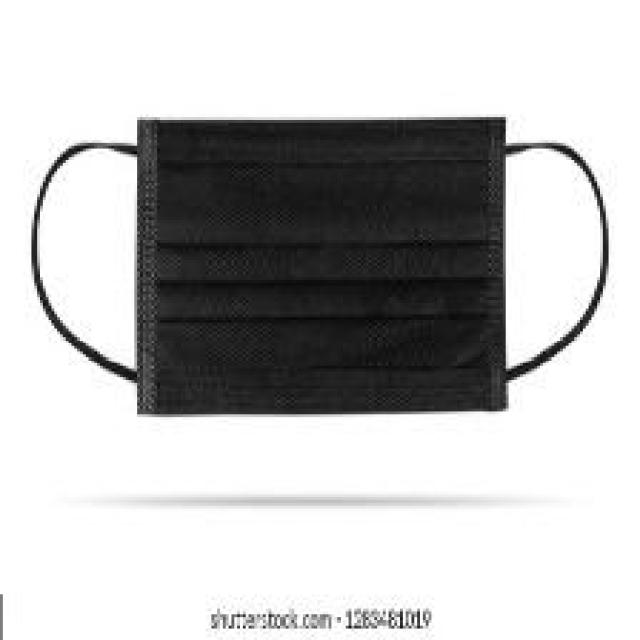Mask: (48, 108, 599, 492)
